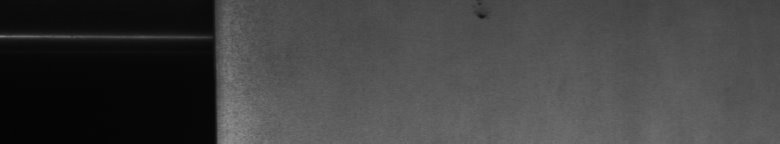fi: (472, 4, 490, 28)
